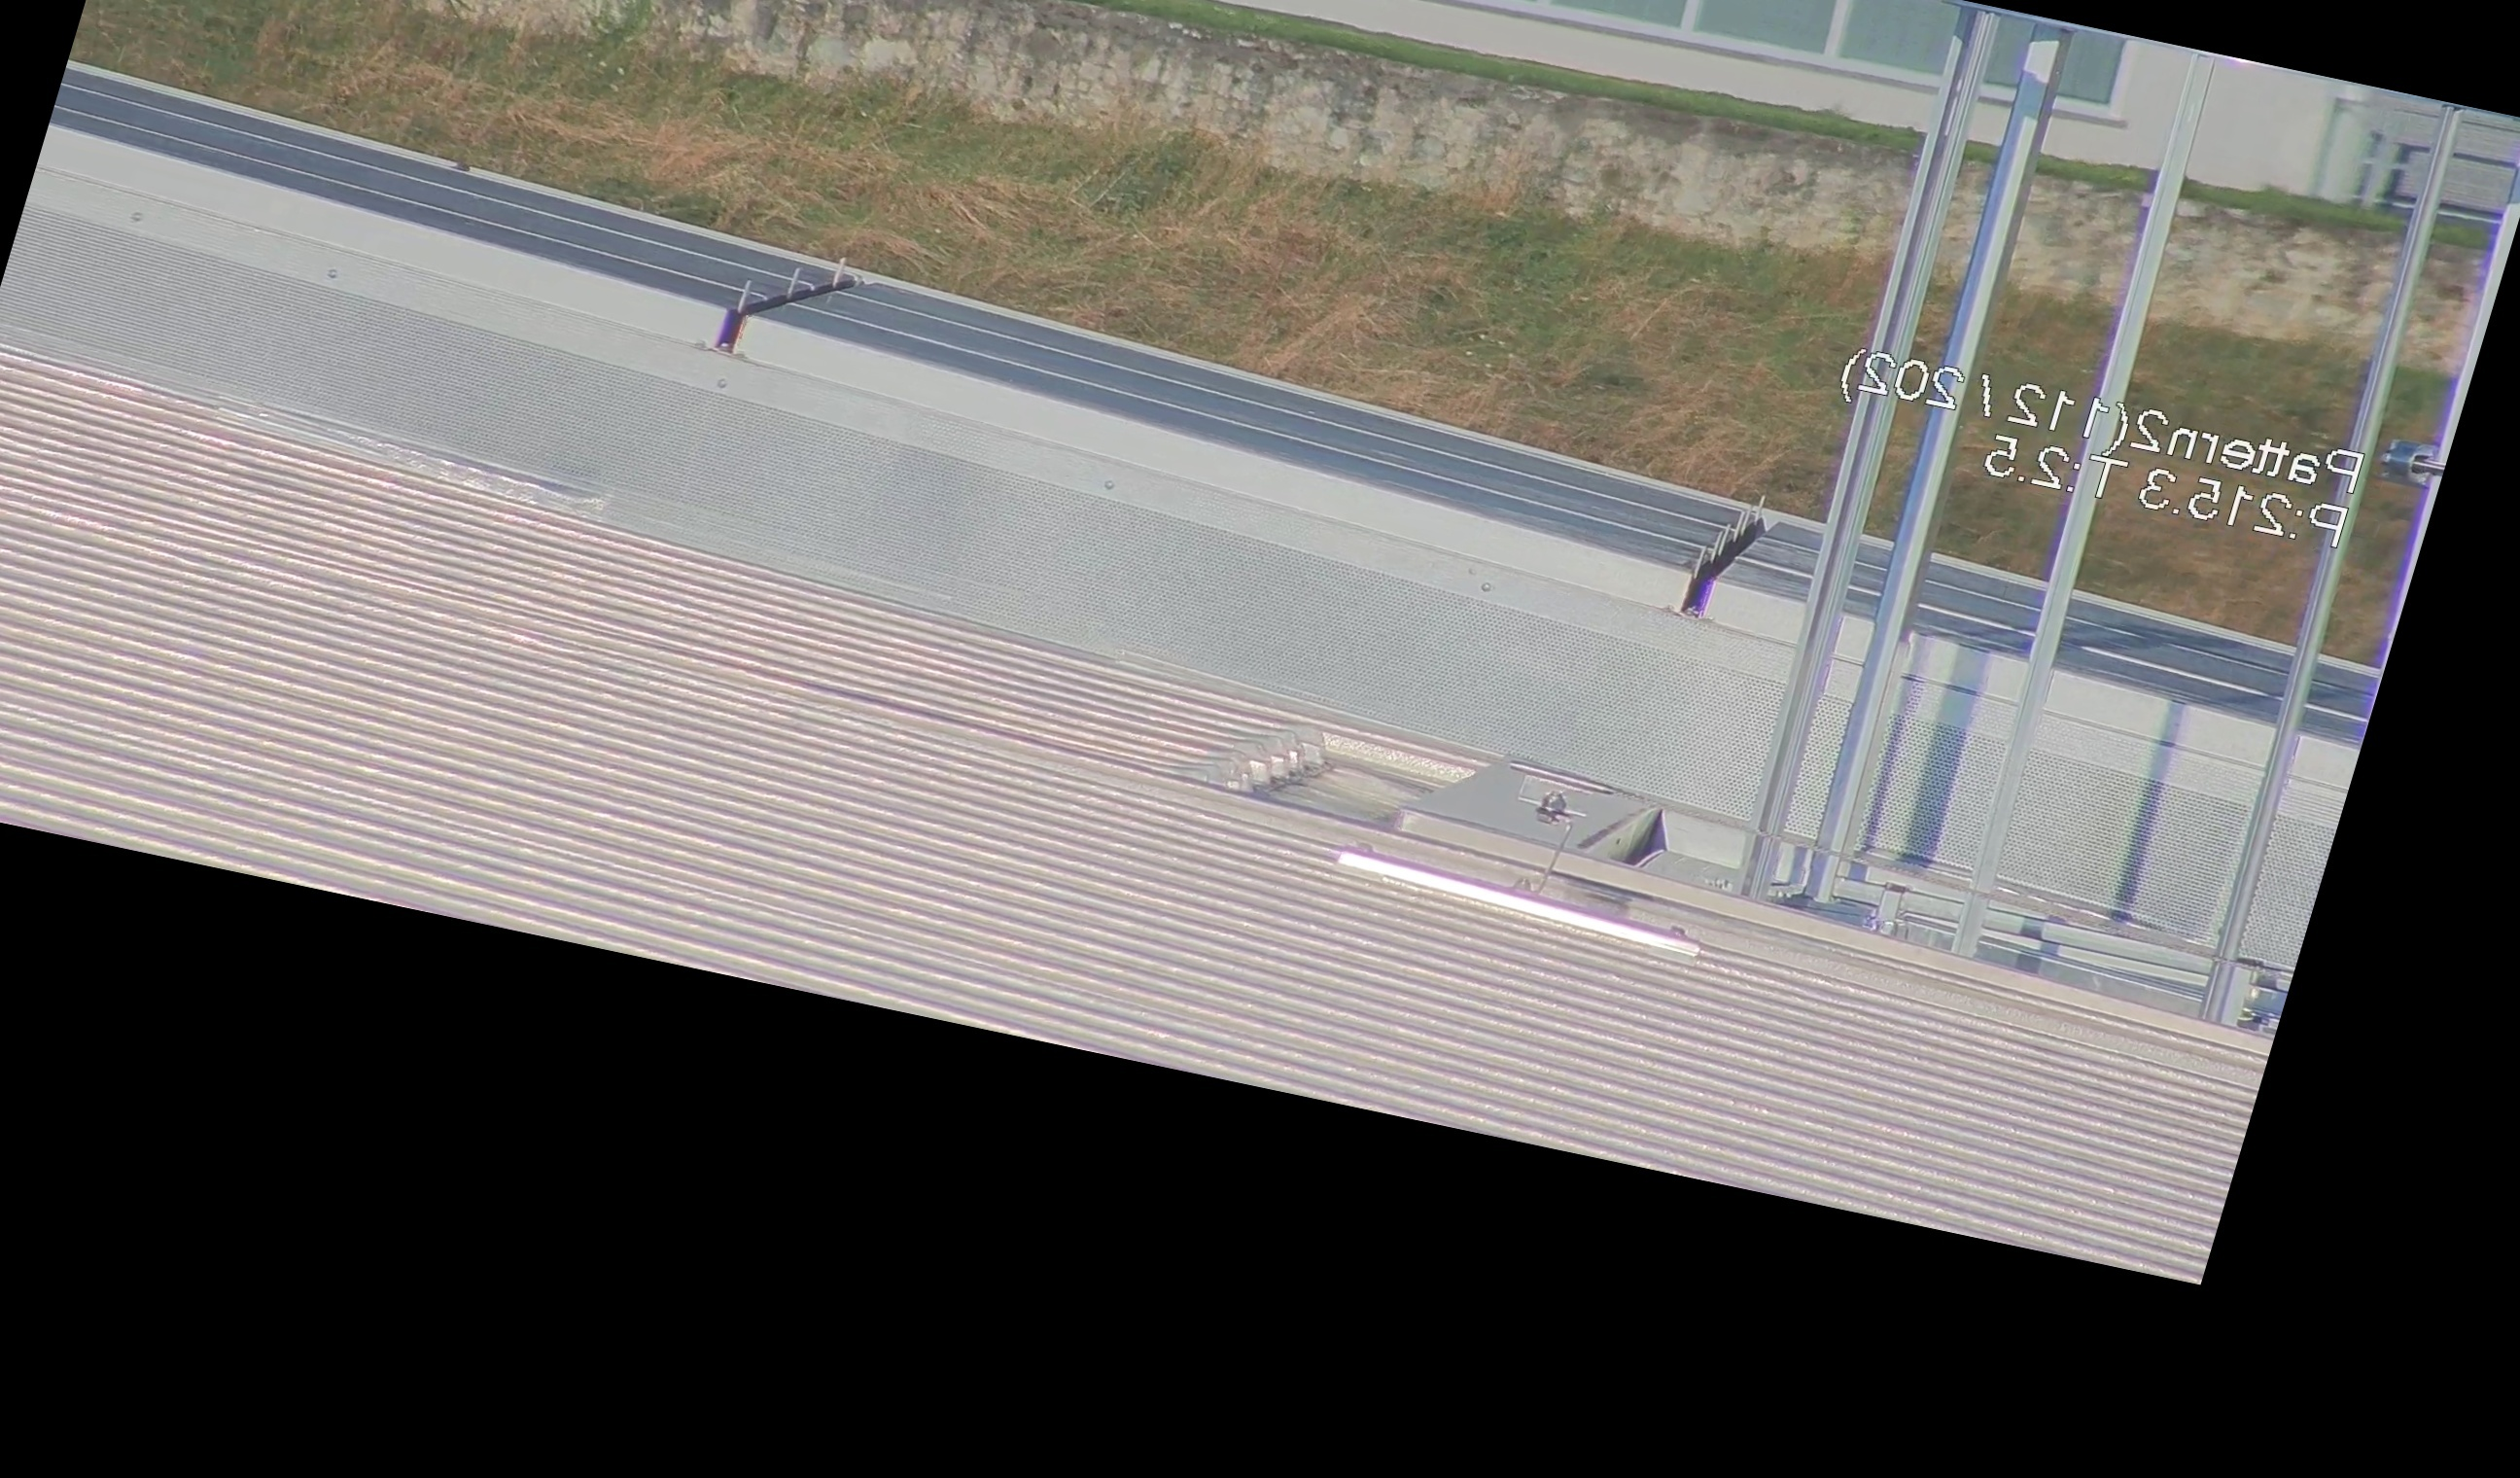Other: (1662, 484, 1808, 635)
